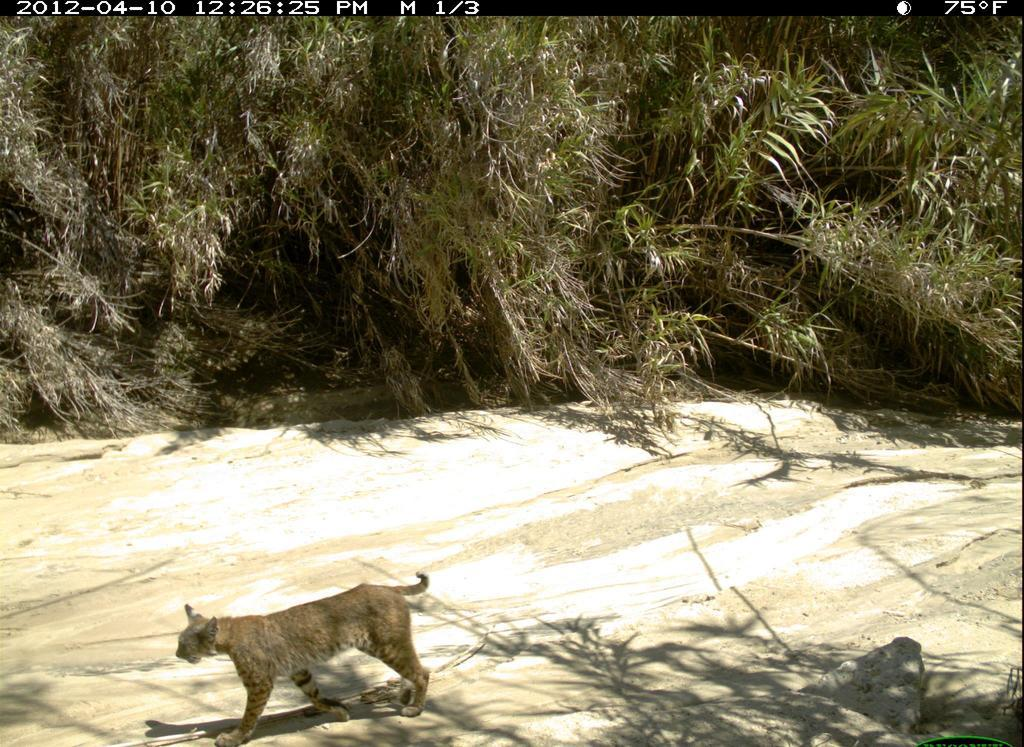bobcat: (173, 570, 437, 747)
